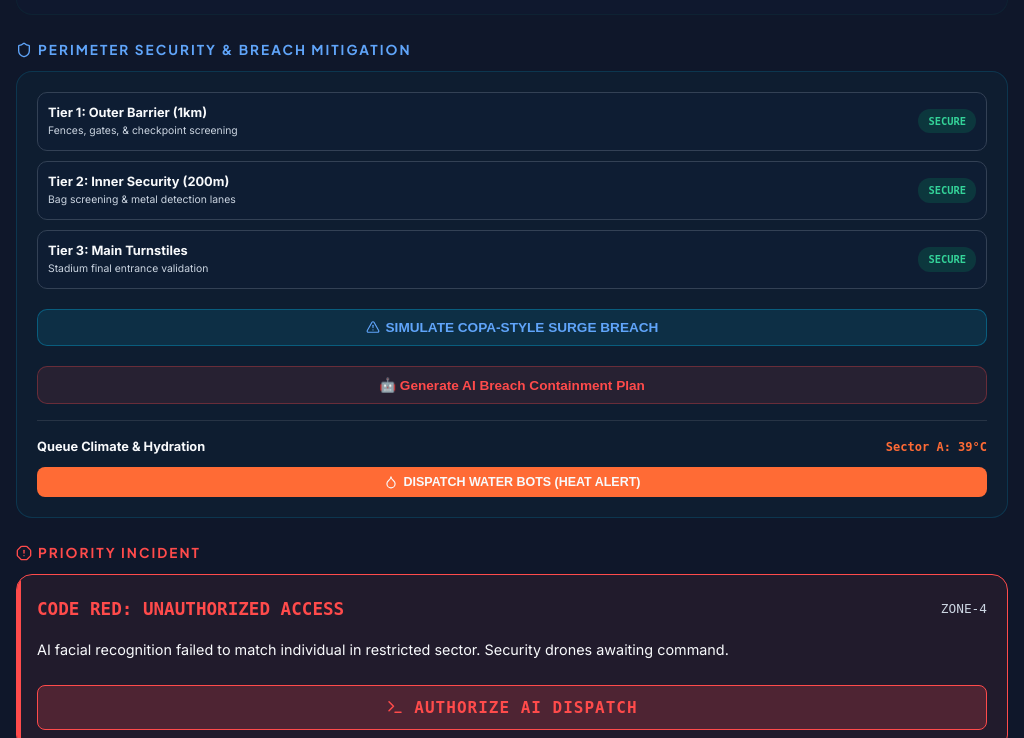
it: Ops Component › formulates breach containment tactical directives successfully
The image size is (1024, 738).
(page scrolled)
Click the button "🤖 Generate AI Breach Containment Plan". click: (512, 385)
box: [37,366,987,404]
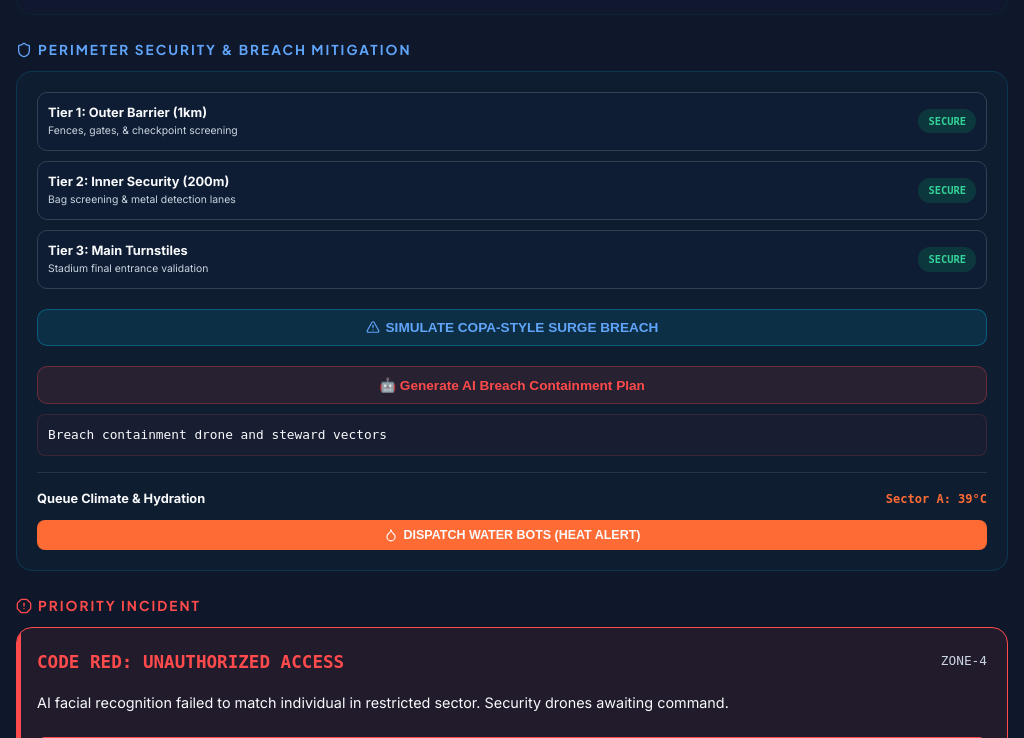
Now the text "Breach containment drone and steward vectors" is shown, box [37,414,987,456]
